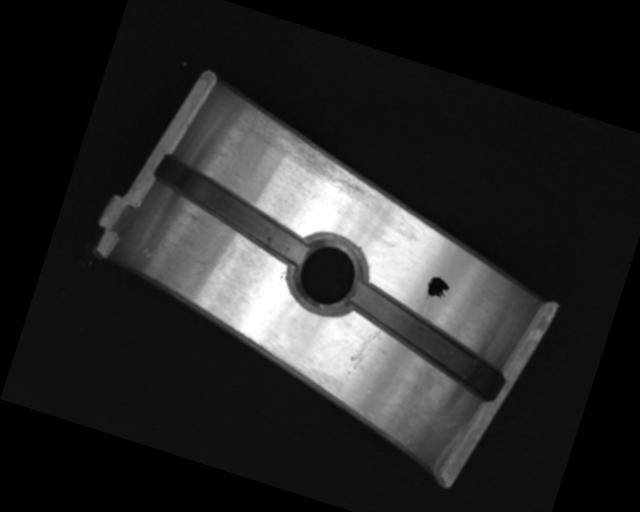blot: (422, 273, 453, 306)
bruise: (194, 257, 216, 270), (138, 245, 155, 259)
gap: (335, 279, 518, 402), (141, 152, 322, 266)
hole: (280, 225, 373, 320)
nick: (343, 322, 382, 380)
scratch: (234, 108, 398, 208)
